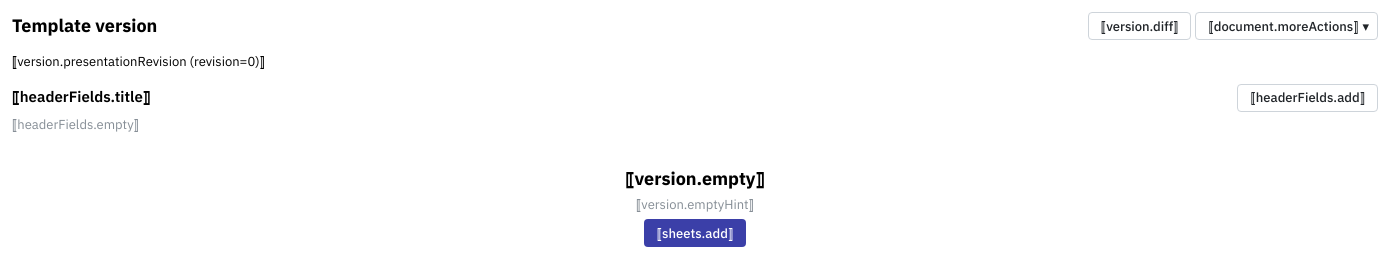
Scenario: TemplateVersionPage: відмова переліку версій ≠ «публікувати не можна» › без права публікувати відмова цього переліку банера НЕ дає
Click the button with test id "version-more" at (1287, 26), box [1195,12,1378,40]
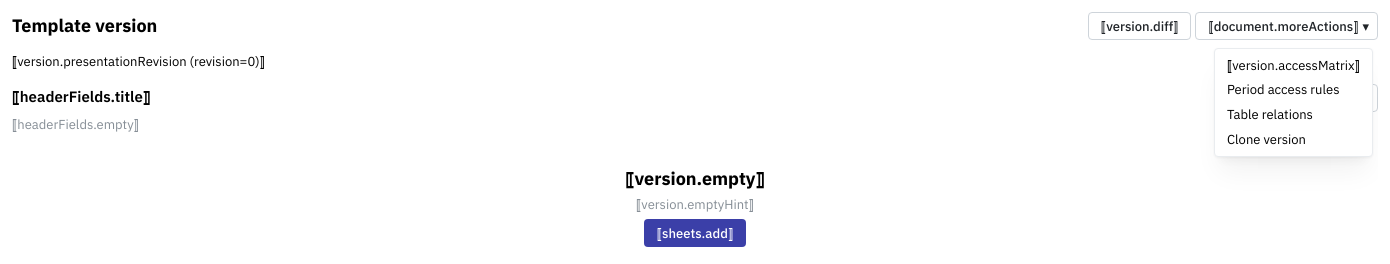
Now the text "Clone version" is shown, box [1227,131,1306,148]
